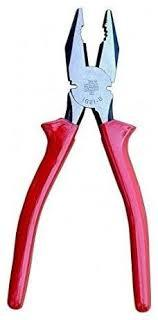pliers: (5, 8, 152, 312)
